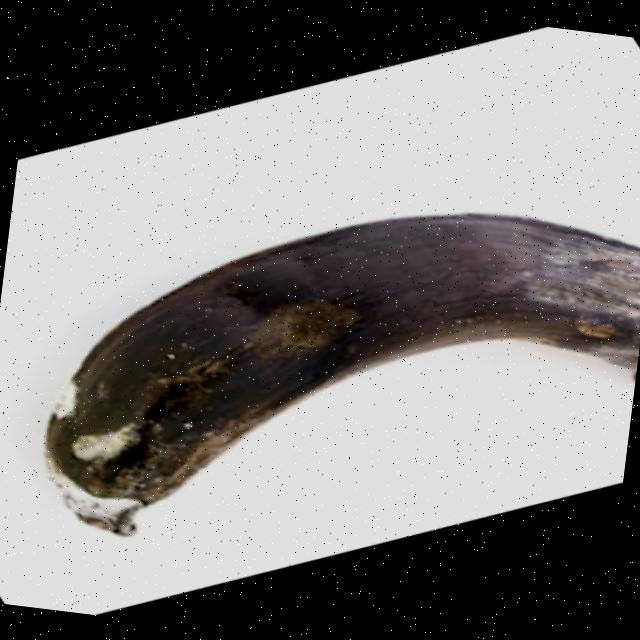Rotten: (33, 162, 640, 592)
